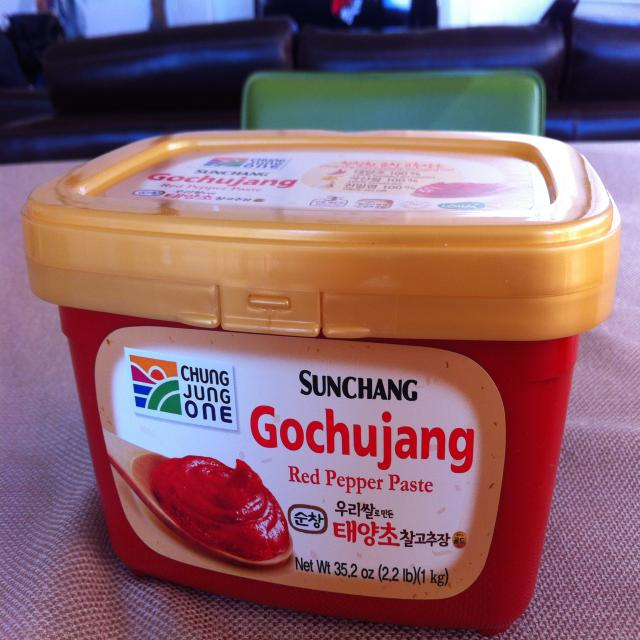plastic: (16, 126, 624, 632)
